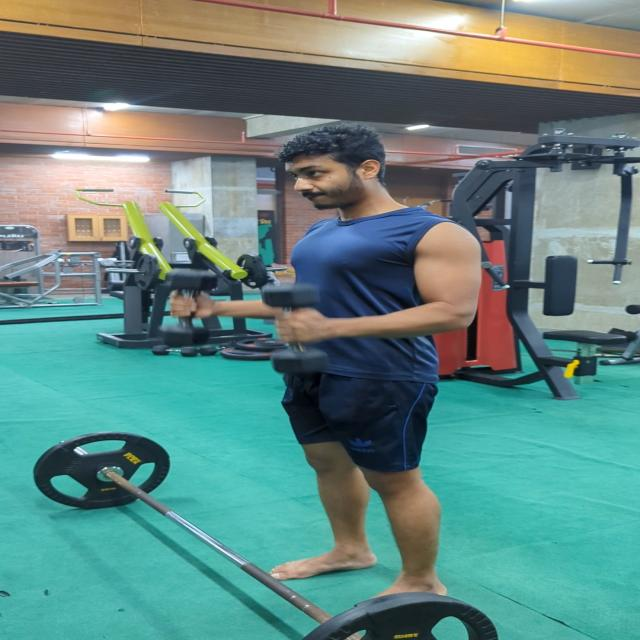Normal_DumbbellBicepCurls: (153, 124, 488, 606)
